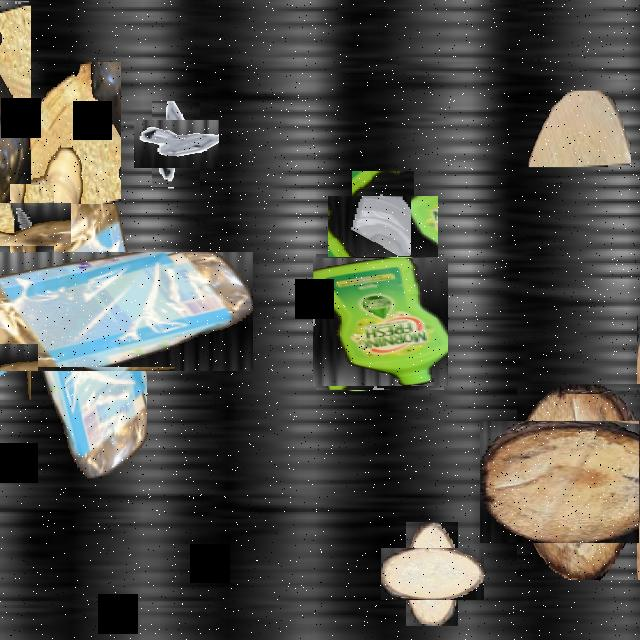glass: (340, 183, 426, 269), (0, 269, 64, 366)
metal: (143, 111, 210, 177), (2, 193, 62, 254)
plastic: (0, 197, 199, 424), (314, 256, 446, 388), (0, 2, 31, 212)
wood: (498, 402, 640, 561), (0, 62, 121, 204), (528, 91, 630, 165), (393, 535, 471, 613), (599, 353, 640, 432)
